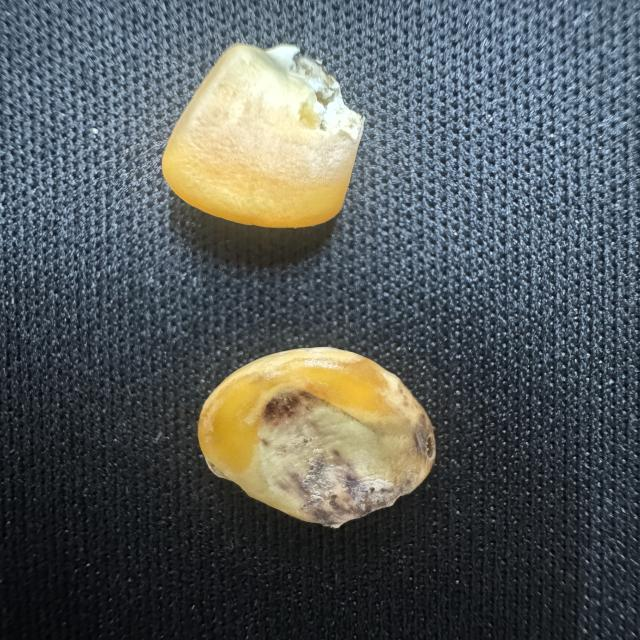Bad-Seed: (189, 340, 444, 531), (154, 36, 375, 232)
